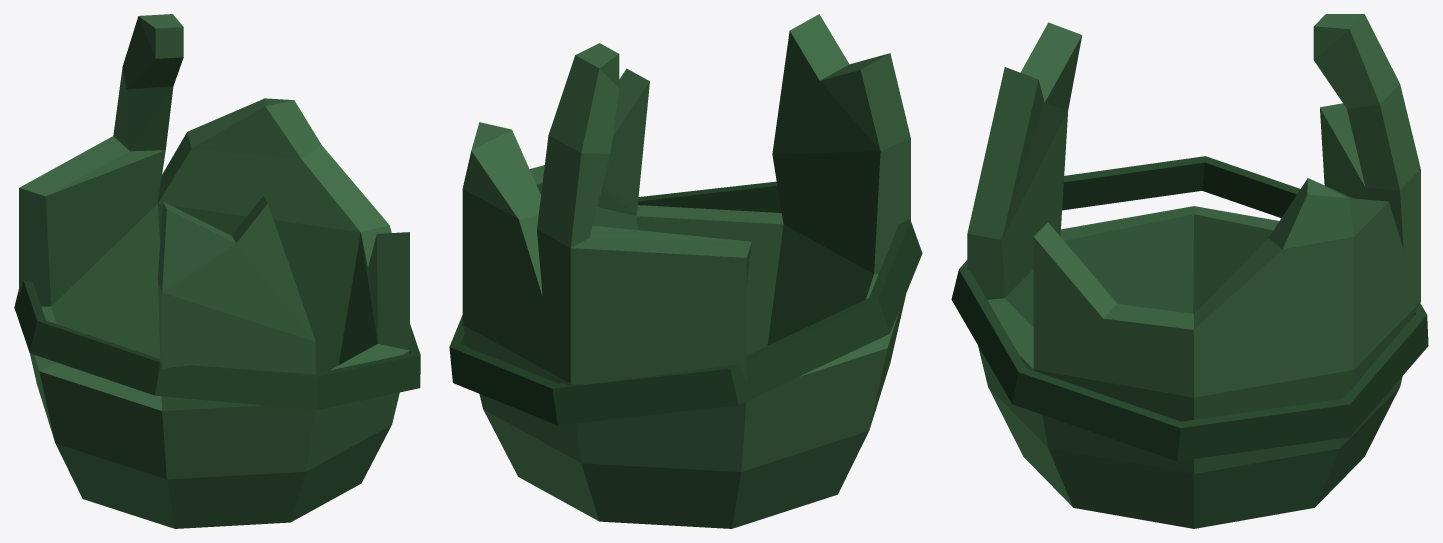
The model's file is Ship_044.glb.
The picture shows the model from 3 angles, left to right: view 1: azimuth 30°, elevation 25°; view 2: azimuth 150°, elevation 25°; view 3: azimuth 270°, elevation 25°; orthographic projection. The views are drawn at different scales.
Parts seen in each view (by area): view 1: Ship_044; view 2: Ship_044; view 3: Ship_044.
Part boxes in pixels (x1=…): Ship_044: x1=14, y1=14, x2=420, y2=528; Ship_044: x1=449, y1=14, x2=922, y2=528; Ship_044: x1=951, y1=14, x2=1428, y2=528.
Size of the model in its own units: 0.9104 by 0.9396 by 0.9173.
Materials: 1 (1 with a texture image).
